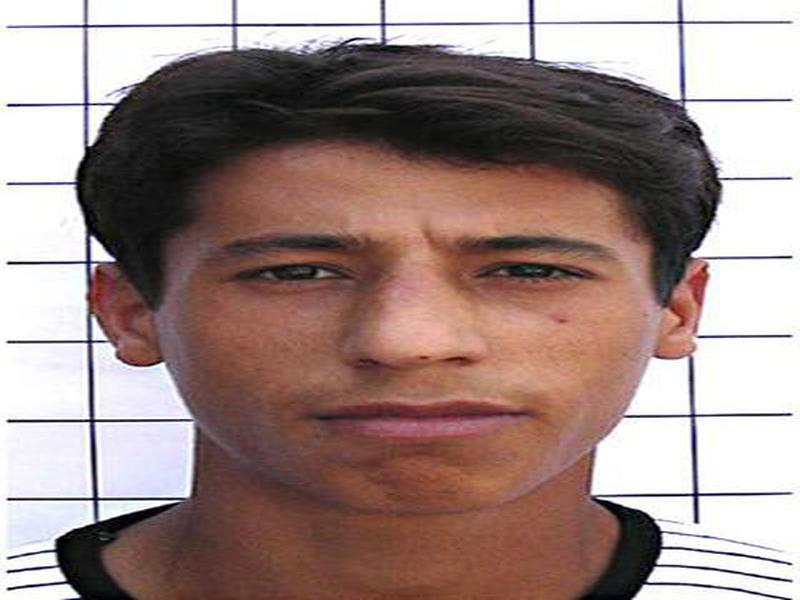without_mask: (158, 187, 653, 516)
